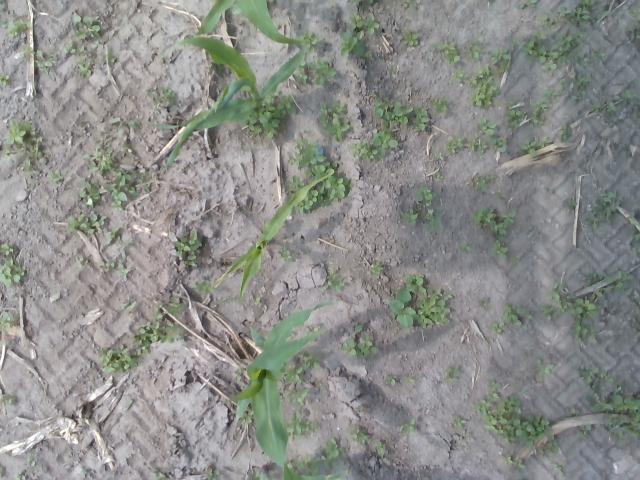Maize: (160, 39, 328, 168), (227, 301, 334, 480), (226, 168, 334, 300), (194, 0, 316, 46), (258, 464, 348, 480)
Weeds: (284, 138, 352, 214), (476, 392, 549, 448), (2, 118, 47, 189), (238, 90, 296, 139), (102, 166, 151, 212), (387, 274, 427, 330), (539, 30, 587, 74), (605, 385, 640, 439), (348, 128, 398, 162), (80, 130, 116, 175), (317, 96, 350, 144), (370, 90, 414, 126), (413, 287, 452, 326), (470, 206, 516, 238), (100, 342, 144, 374), (339, 324, 378, 360), (468, 64, 499, 108), (570, 296, 598, 344), (416, 186, 444, 231), (172, 230, 202, 268), (283, 409, 320, 439), (339, 30, 375, 60), (132, 320, 160, 356), (558, 0, 594, 28), (592, 191, 624, 222), (67, 212, 106, 235), (578, 364, 615, 388), (98, 251, 130, 278), (546, 282, 572, 314), (77, 173, 101, 207), (308, 58, 337, 86), (72, 12, 100, 40), (0, 258, 26, 287), (296, 452, 326, 477), (502, 303, 533, 327), (76, 44, 98, 77), (152, 297, 185, 319), (145, 84, 175, 108), (348, 11, 379, 34), (324, 438, 346, 470), (32, 49, 59, 75), (519, 136, 552, 157), (604, 270, 634, 292), (298, 28, 324, 53), (504, 100, 524, 132), (570, 73, 592, 102), (434, 40, 460, 64), (108, 116, 139, 136), (529, 100, 551, 128), (160, 322, 187, 344), (292, 54, 310, 86), (500, 450, 526, 472), (524, 30, 546, 56), (489, 48, 512, 72), (468, 174, 498, 192), (322, 270, 346, 292), (6, 19, 32, 37), (583, 48, 607, 67), (412, 104, 429, 130), (300, 350, 322, 370), (282, 363, 302, 384), (348, 426, 371, 444), (285, 388, 308, 406), (444, 136, 465, 155), (544, 426, 558, 454), (476, 117, 496, 136), (538, 13, 558, 32), (466, 38, 484, 59), (594, 4, 612, 24), (490, 239, 508, 259), (430, 97, 450, 115), (468, 138, 488, 155), (485, 380, 500, 402), (536, 358, 554, 376), (623, 22, 640, 41), (304, 323, 320, 343), (401, 208, 418, 226), (400, 418, 418, 435), (490, 136, 508, 153), (590, 392, 606, 411), (13, 44, 34, 58), (48, 168, 67, 183), (195, 280, 215, 294), (443, 366, 460, 382), (98, 49, 115, 65), (402, 29, 418, 46), (574, 424, 592, 439), (585, 270, 603, 284), (588, 288, 606, 302), (120, 140, 134, 158), (371, 259, 384, 278), (538, 88, 560, 99), (105, 228, 120, 244), (558, 124, 572, 141), (584, 215, 600, 229), (452, 414, 466, 430), (490, 320, 506, 334), (149, 470, 169, 480), (0, 70, 11, 88), (250, 469, 268, 480), (508, 36, 526, 47), (62, 42, 76, 56), (239, 410, 253, 424), (620, 89, 632, 105), (478, 296, 490, 312), (552, 462, 564, 478), (454, 67, 466, 83), (375, 439, 386, 456), (0, 243, 14, 256), (120, 301, 138, 311), (517, 0, 539, 8), (206, 468, 220, 480), (402, 0, 418, 10), (566, 199, 578, 212), (279, 248, 291, 261), (0, 396, 15, 406), (629, 228, 640, 241), (607, 101, 617, 115), (630, 6, 640, 20), (458, 242, 471, 252), (285, 458, 295, 471), (566, 407, 580, 416), (591, 101, 602, 112), (386, 374, 396, 386), (74, 256, 84, 268), (234, 368, 242, 382), (432, 150, 443, 160), (434, 170, 444, 181), (494, 190, 506, 199), (348, 0, 374, 4), (558, 78, 568, 88), (510, 256, 520, 266), (14, 471, 25, 480), (27, 457, 36, 467), (626, 213, 634, 224), (404, 375, 415, 383), (631, 247, 640, 256), (0, 16, 5, 28), (0, 465, 4, 479), (0, 0, 6, 7), (389, 66, 396, 72)
